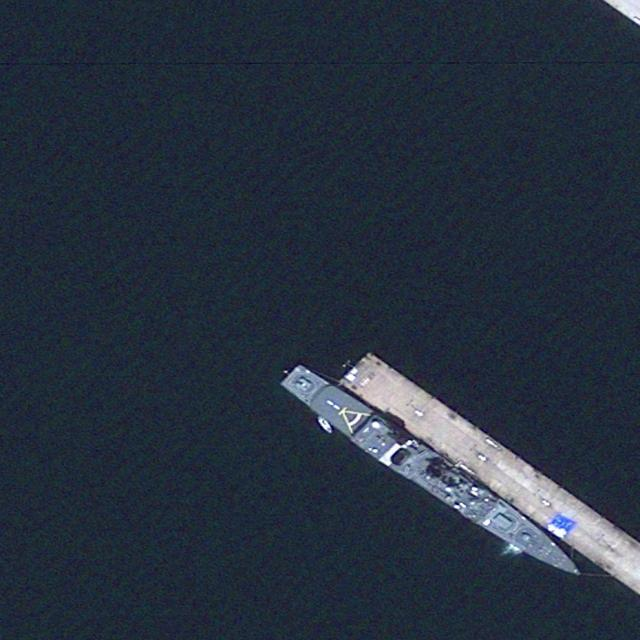Destroyer: (277, 356, 590, 595)
